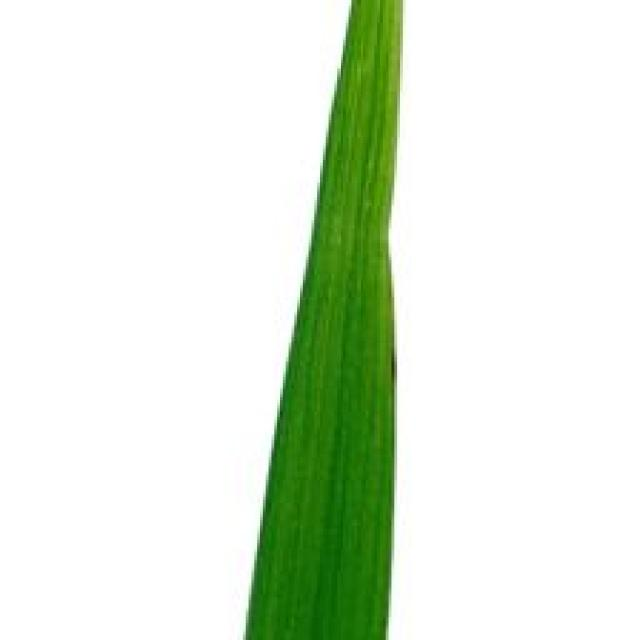Rice___Healthy_Rice_Plant: (244, 0, 404, 637)
